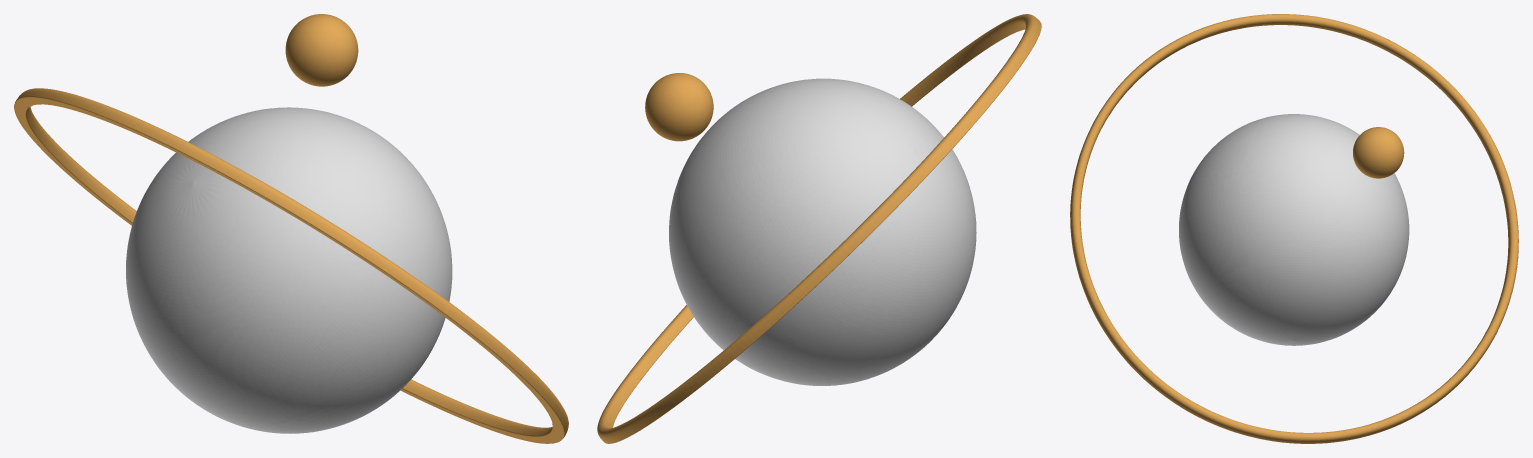
The model's file is Planet-v2.glb.
3 renders of one model, left to right at view 1: azimuth 30°, elevation 25°; view 2: azimuth 150°, elevation 25°; view 3: azimuth 270°, elevation 25°, orthographic. The views are drawn at different scales.
Parts seen in each view (by area): view 1: Sphere, Ring, Sphere2; view 2: Sphere, Ring, Sphere2; view 3: Sphere, Ring, Sphere2.
Part boxes in pixels (box(x1,y1,x2,y2)): Sphere: box(126, 107, 452, 433); Ring: box(14, 88, 568, 443); Sphere2: box(285, 14, 358, 86); Sphere: box(669, 78, 976, 385); Ring: box(597, 14, 1041, 443); Sphere2: box(645, 73, 713, 141); Sphere: box(1179, 114, 1409, 345); Ring: box(1070, 14, 1518, 443); Sphere2: box(1353, 127, 1404, 178).
Bounding box in the file's own units: 2.84 × 2.84 × 3.85.
Materials: 2 (1 with a texture image).
